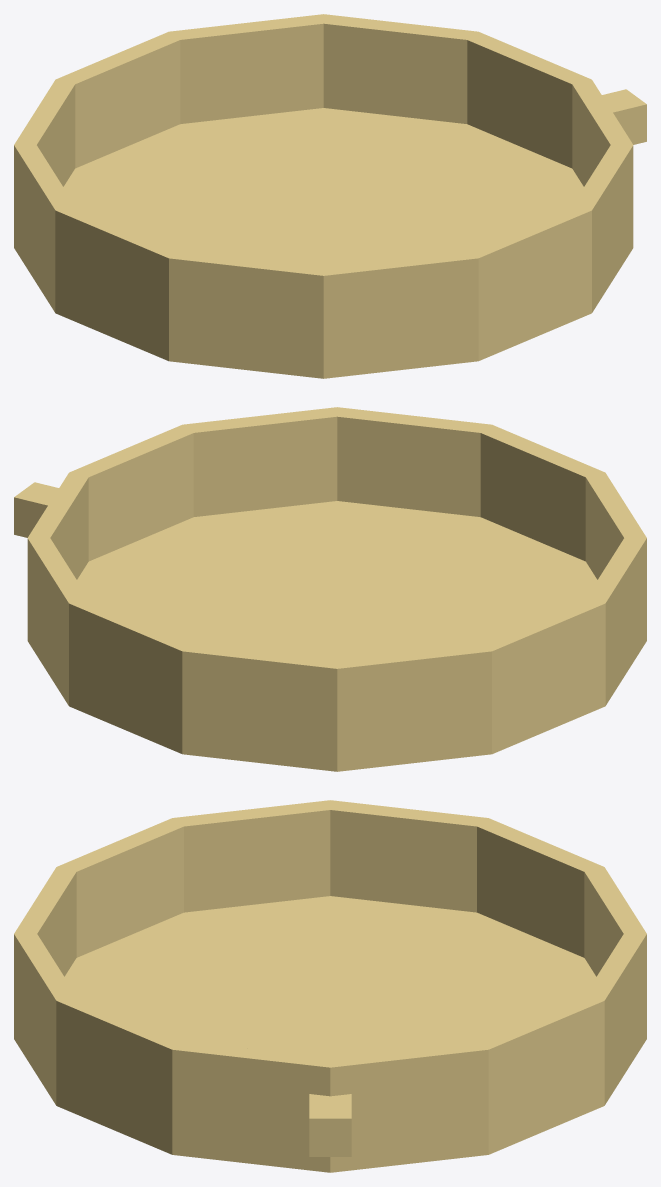
File: prop-watch-case-blank.fbx
3 views of the same model, one above another, from view 1: azimuth 30°, elevation 25°; view 2: azimuth 150°, elevation 25°; view 3: azimuth 270°, elevation 25° (orthographic). The views are drawn at different scales.
Visible parts, largest first — view 1: prop-watch-case-blank; view 2: prop-watch-case-blank; view 3: prop-watch-case-blank.
Boxes of the visible parts, bbox=[...] form: prop-watch-case-blank: bbox=[14, 14, 646, 378]; prop-watch-case-blank: bbox=[14, 407, 646, 771]; prop-watch-case-blank: bbox=[14, 800, 646, 1172].
Size of the model in its own units: 6.5 by 1.1 by 6.
